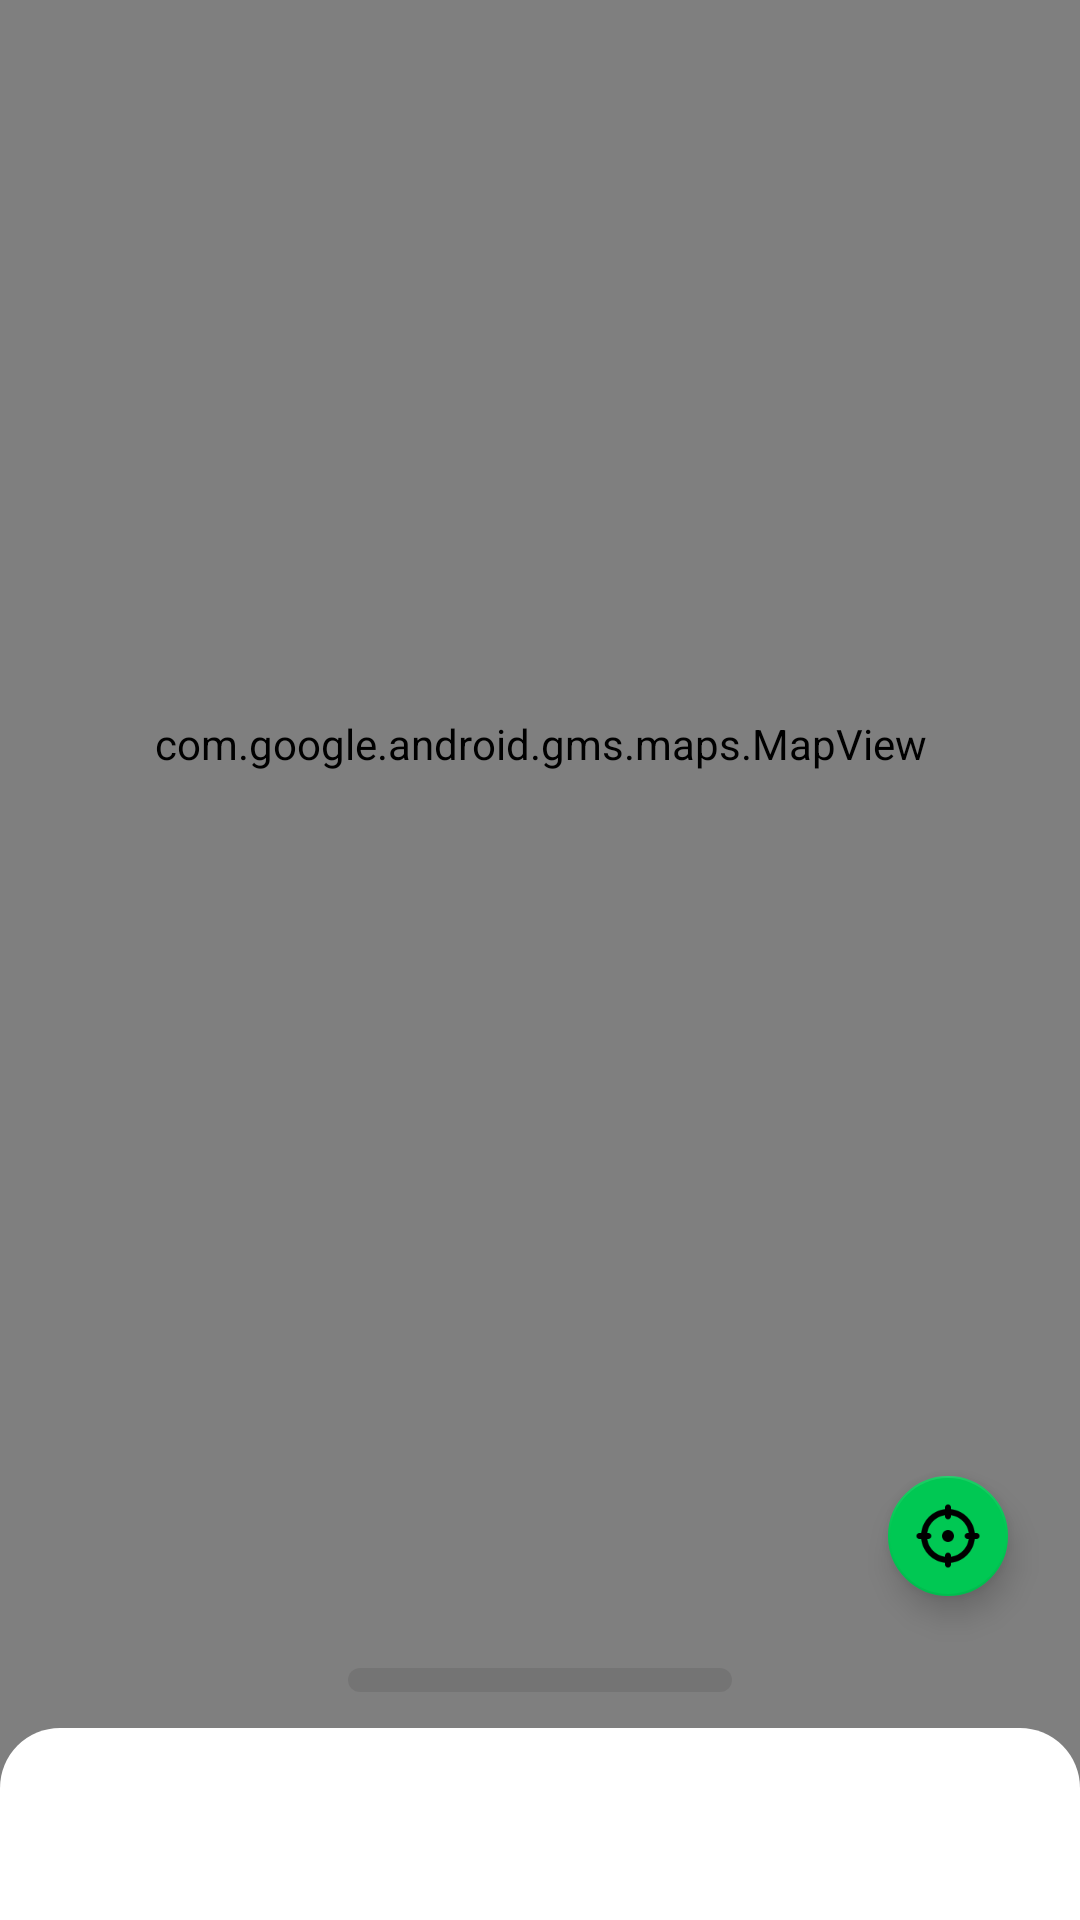

Locate icon controls on the screen. Image size 1080px×1920px, boxes as (x1,y1,x2,y2).
Show me: (888,1476,1008,1596)
